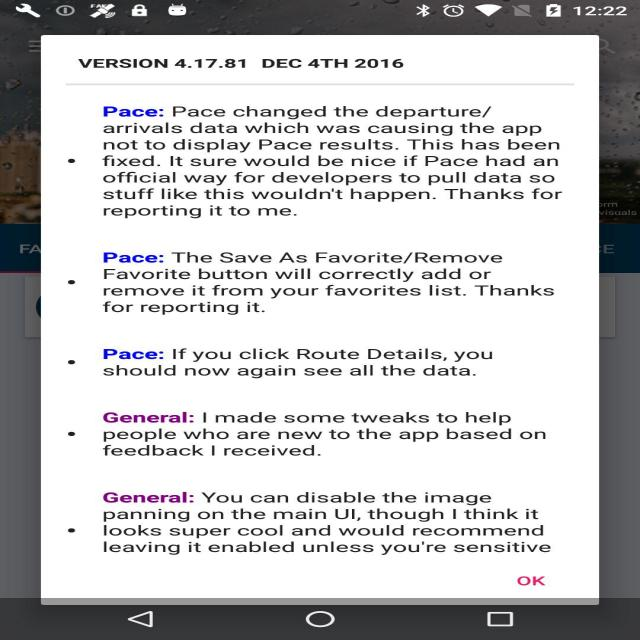text: (29, 45, 582, 614)
